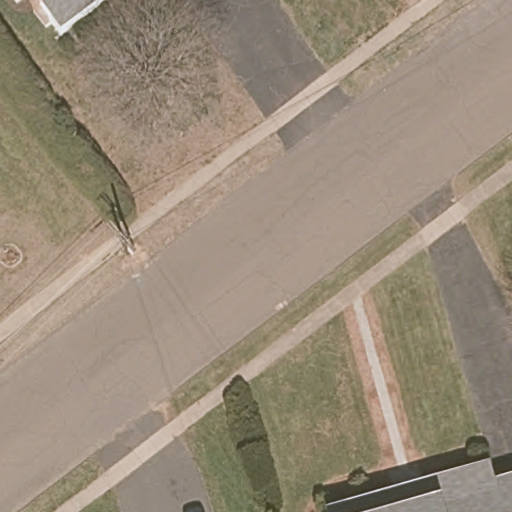DT: (106, 218, 135, 256)
